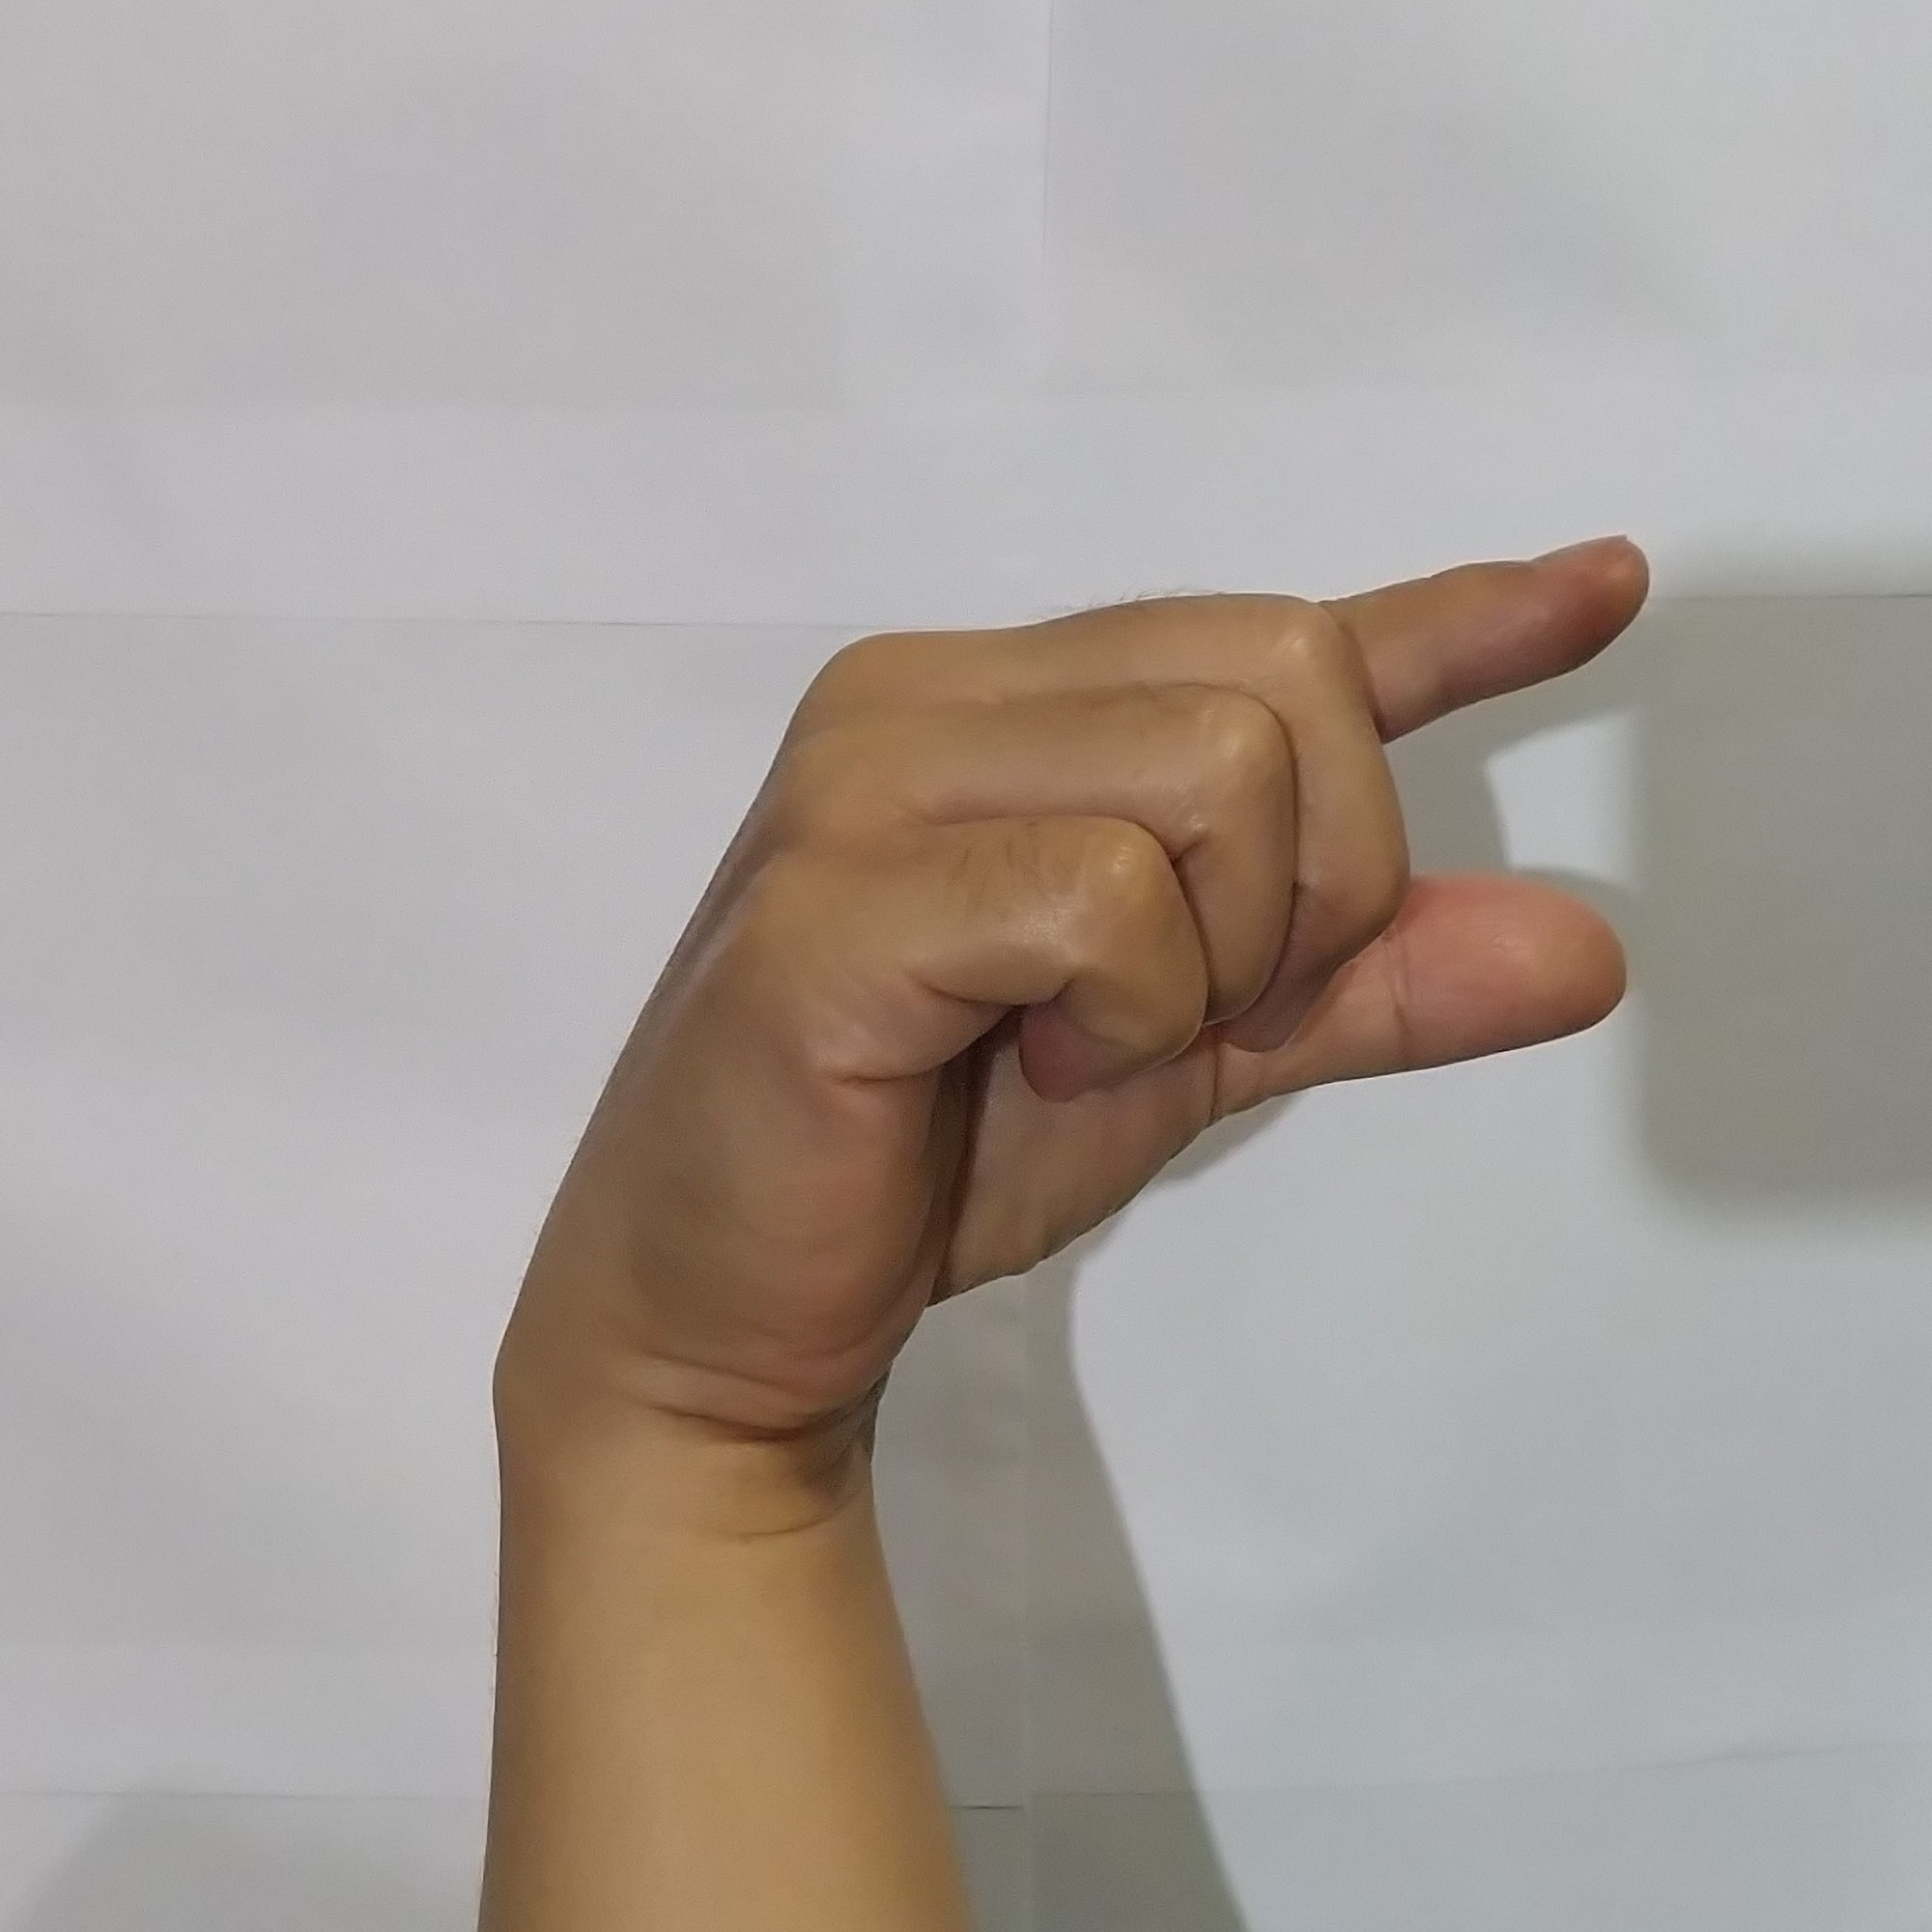G: (499, 513, 1674, 1369)
